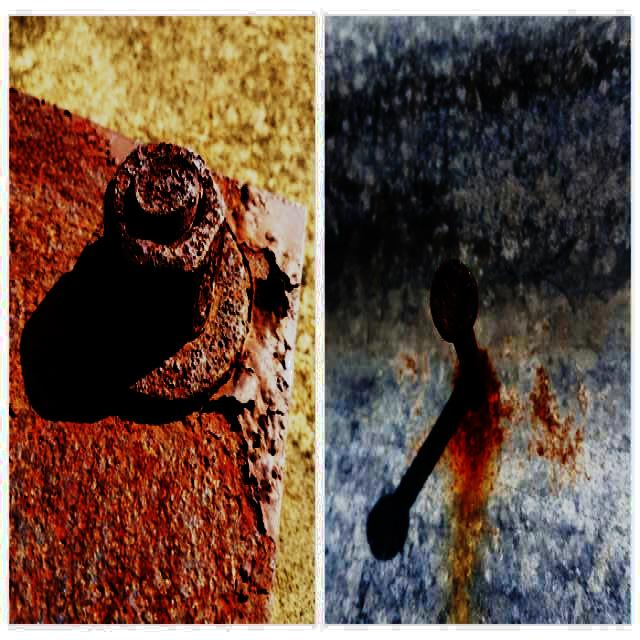Corrosion: (9, 87, 307, 623), (428, 258, 500, 468), (531, 368, 592, 496), (397, 353, 418, 385)
